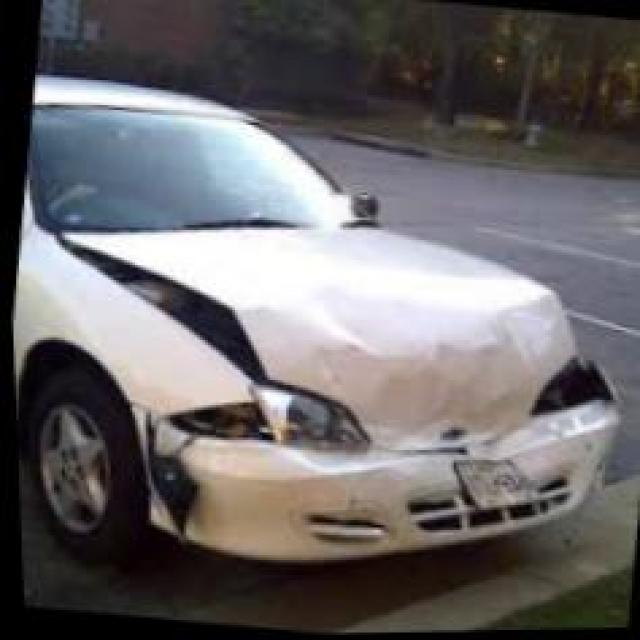Bonnet: (45, 221, 566, 460)
Light: (162, 390, 362, 453), (523, 359, 603, 409)
